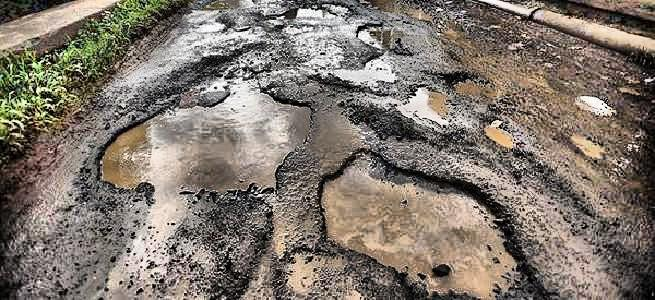pothole: (316, 148, 534, 299), (95, 80, 315, 197), (402, 83, 462, 127), (334, 60, 401, 88), (447, 71, 501, 102), (354, 20, 400, 54), (565, 127, 607, 160), (482, 119, 522, 150), (275, 5, 337, 20), (194, 15, 228, 34)
